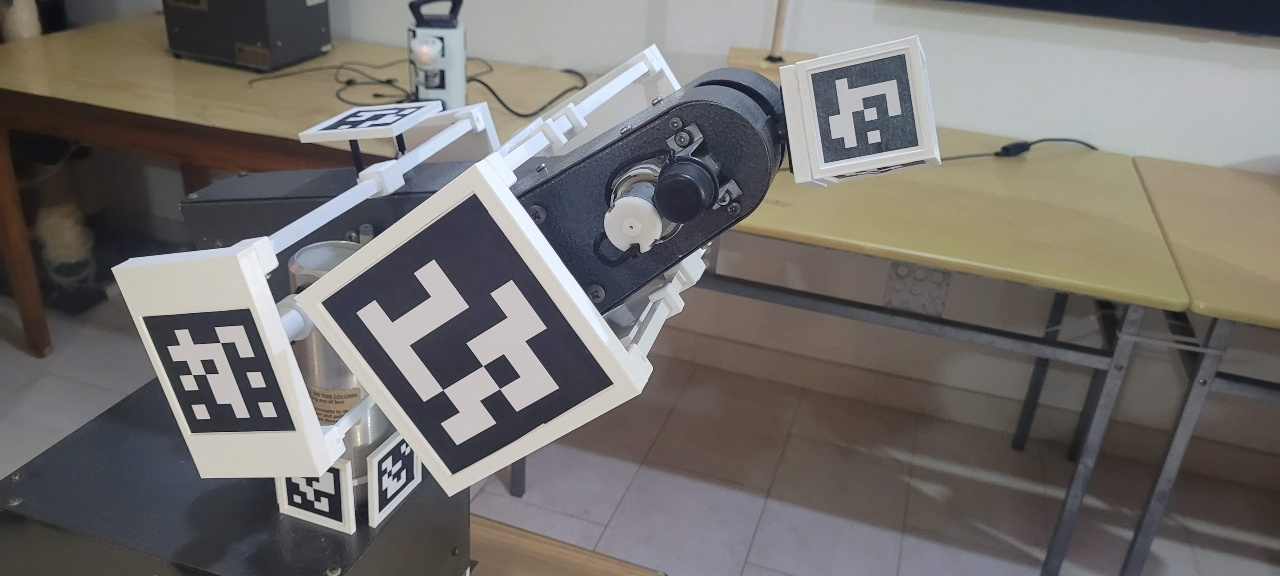Robot: (109, 33, 945, 537)
